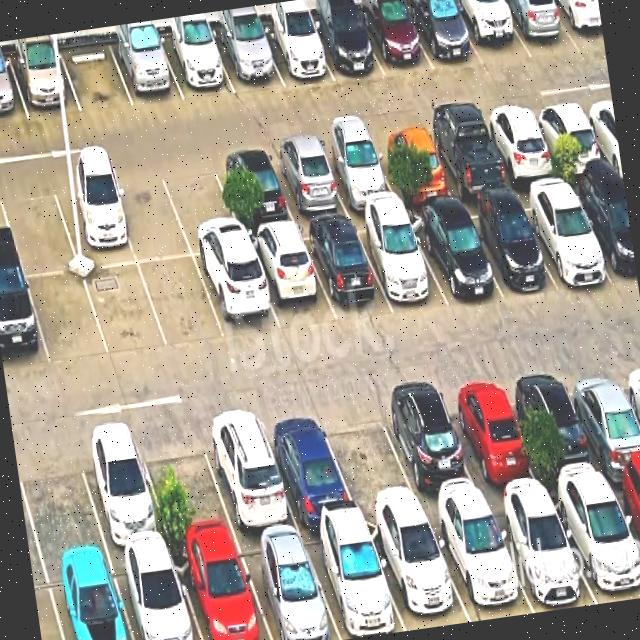empty: (317, 396, 423, 516), (135, 422, 237, 546), (14, 434, 107, 564), (159, 157, 246, 256), (108, 167, 192, 263), (139, 257, 225, 348), (84, 264, 168, 357), (27, 272, 109, 365), (0, 180, 79, 276), (60, 42, 134, 112)
occupied: (375, 384, 486, 512), (197, 407, 299, 537), (439, 375, 544, 501), (488, 495, 597, 613), (427, 503, 534, 622), (257, 404, 359, 527), (301, 521, 405, 640), (73, 427, 171, 553), (510, 366, 608, 491), (365, 515, 470, 631), (235, 532, 341, 640), (549, 482, 640, 604), (514, 185, 614, 288), (171, 540, 271, 640), (458, 198, 556, 298), (406, 207, 504, 307), (561, 360, 640, 481), (246, 228, 336, 333), (300, 220, 393, 321), (353, 214, 449, 310), (110, 548, 202, 640), (50, 173, 137, 270), (195, 251, 281, 339), (568, 178, 638, 284), (45, 556, 133, 640), (423, 118, 511, 200), (212, 149, 296, 232), (267, 142, 349, 222), (316, 135, 399, 212), (370, 127, 455, 202), (480, 108, 561, 186), (530, 101, 610, 177), (357, 0, 434, 77), (404, 0, 483, 70), (450, 0, 532, 67), (307, 10, 384, 81), (8, 48, 81, 119), (110, 36, 184, 106), (158, 33, 235, 100), (258, 20, 334, 86), (0, 274, 50, 373), (499, 0, 580, 58), (212, 27, 283, 93), (551, 0, 605, 50), (608, 476, 640, 553), (0, 55, 29, 123)
